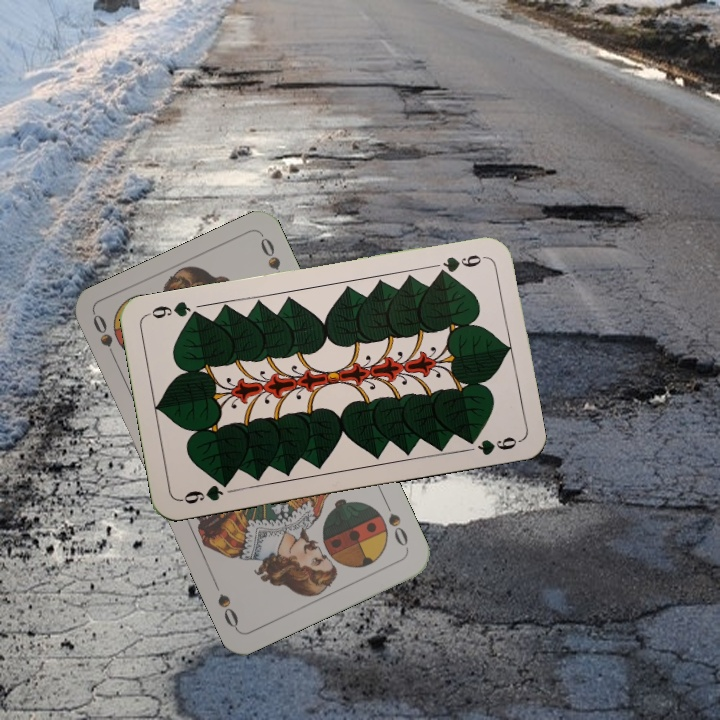G9: (176, 476, 233, 507), (431, 250, 488, 278)
SO: (88, 310, 121, 367), (380, 496, 411, 553)
